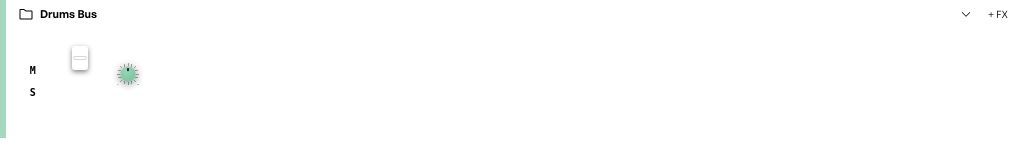
FolderTrackHeader — name editing › shows an input with current name on double-click
Double-click the text "Drums Bus" at (68, 14), box [40, 7, 97, 21]
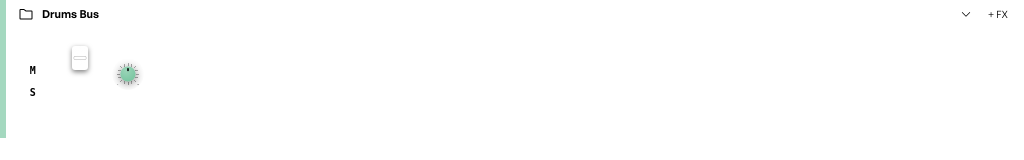
Expected: the field named "track name" holds "Drums Bus", [38, 6, 952, 22]
